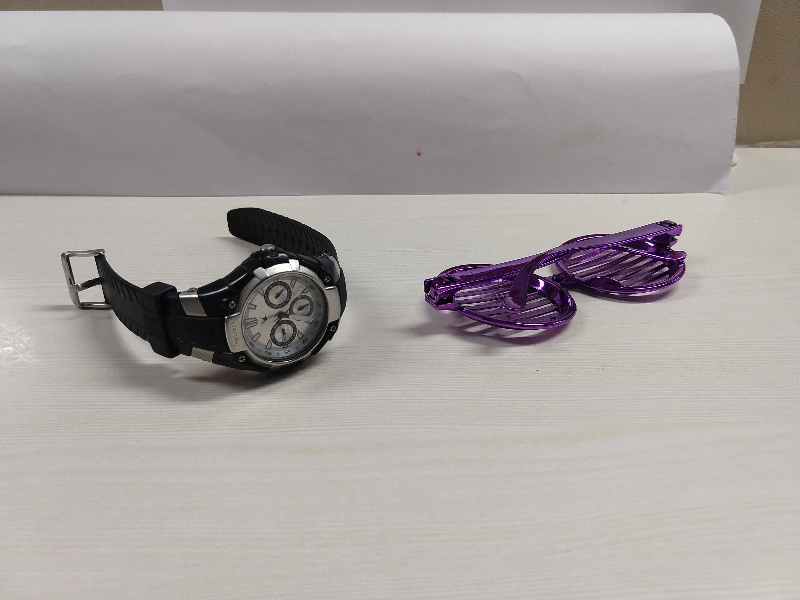shades: (414, 213, 713, 336)
watch: (54, 200, 364, 375)
